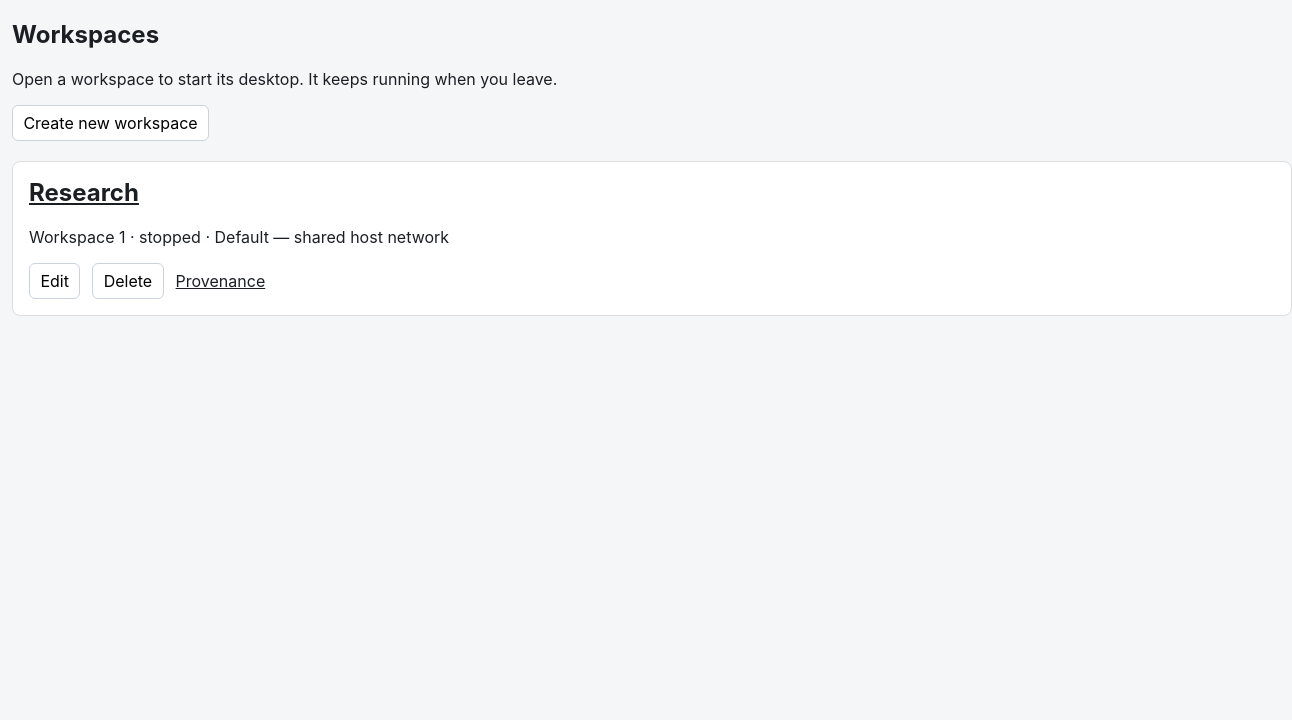
Test: shows the empty state after successful deletion
Click the button with aria-label "Delete Research": (128, 281) [92, 263, 164, 300]
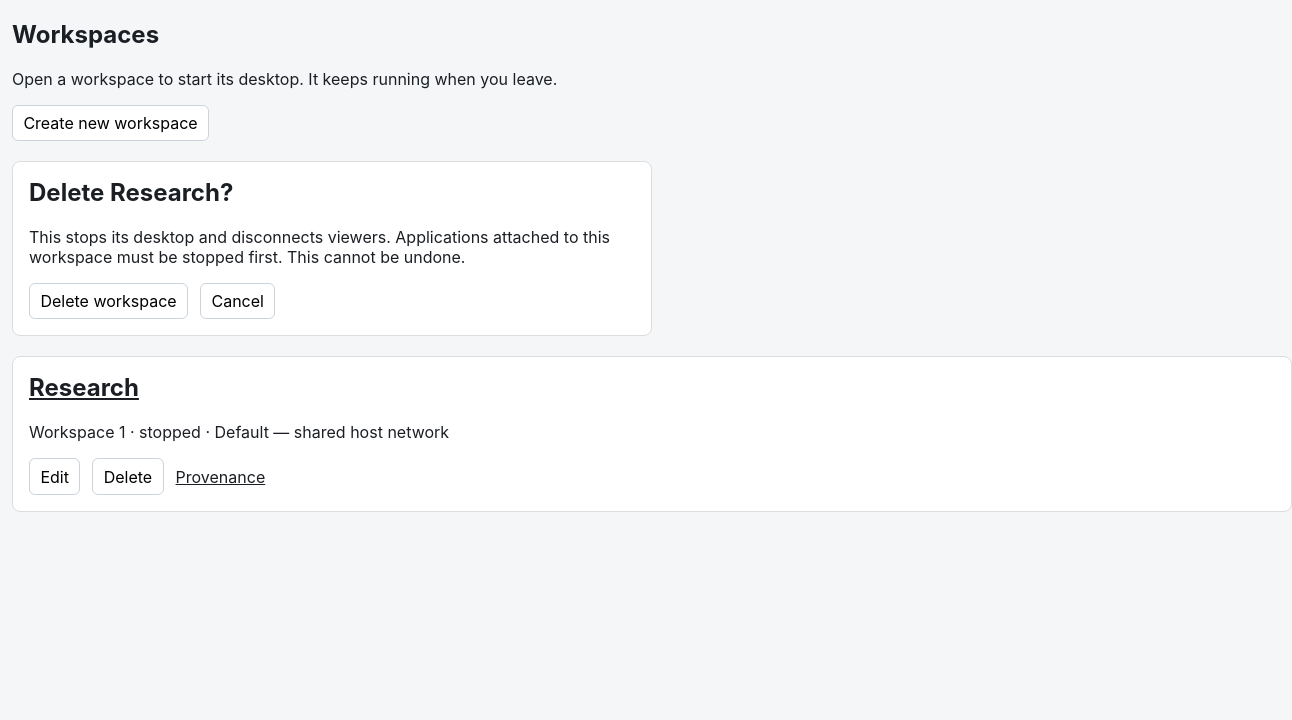
Click the button "Delete workspace": (109, 301) [29, 283, 188, 320]
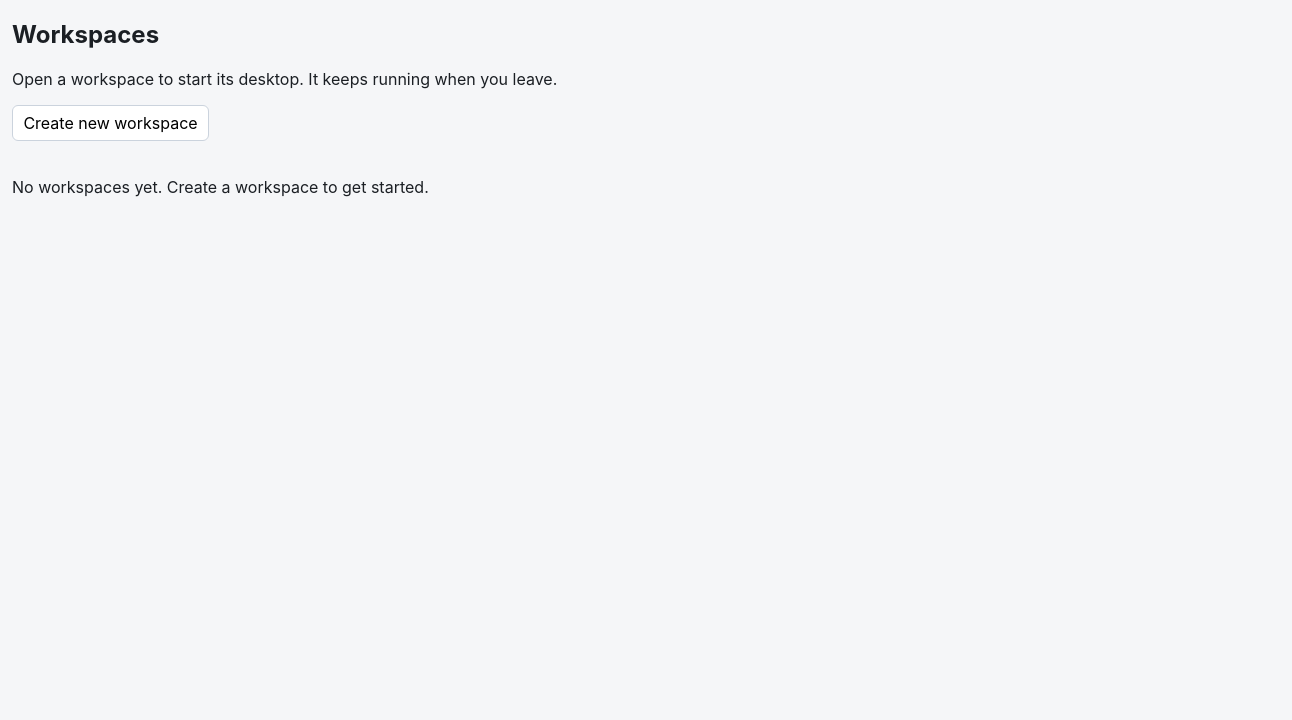
Now the text "No workspaces yet. Create a workspace to get started." is shown, box [12, 177, 429, 197]
